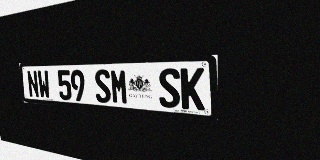5: (57, 70, 72, 101)
9: (70, 70, 86, 102)
K: (180, 68, 205, 110)
M: (110, 69, 129, 105)
N: (26, 70, 40, 98)
S: (158, 68, 181, 109), (94, 69, 112, 103)
W: (37, 70, 51, 99)
